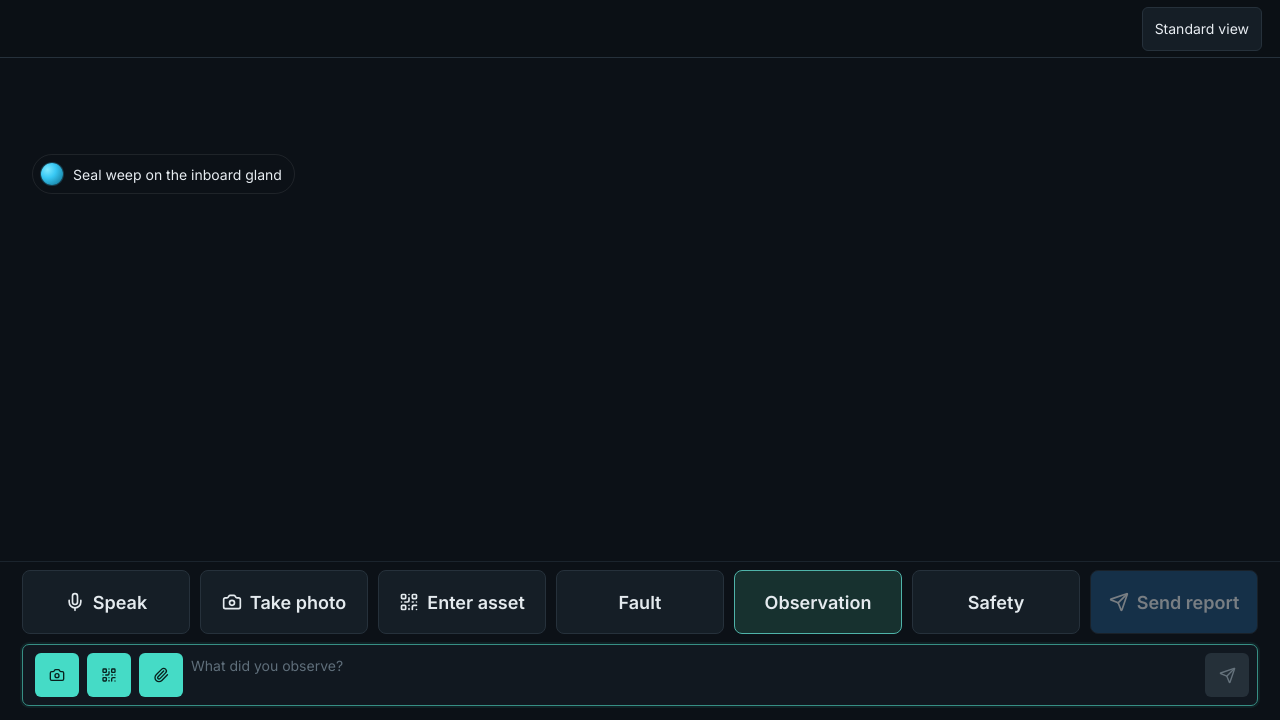
Scenario: FieldPage › refuses a tag that is not an asset id instead of silently dropping it
Expected: the text box with placeholder "What did you observe?" is shown, left=191, top=655, right=1197, bottom=697
Click the button "Enter asset": (462, 602) left=378, top=570, right=546, bottom=634
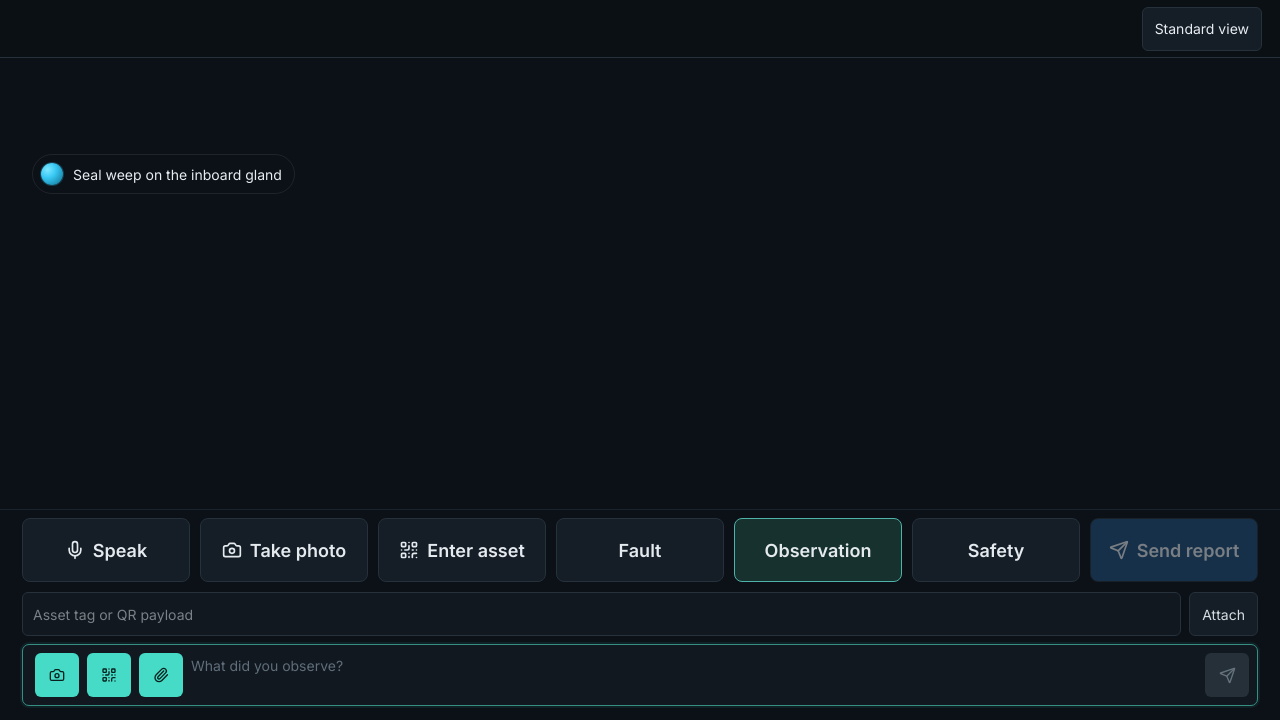
In the field labelled "Asset tag or QR payload": (602, 614) left=22, top=592, right=1181, bottom=636, type "T301"
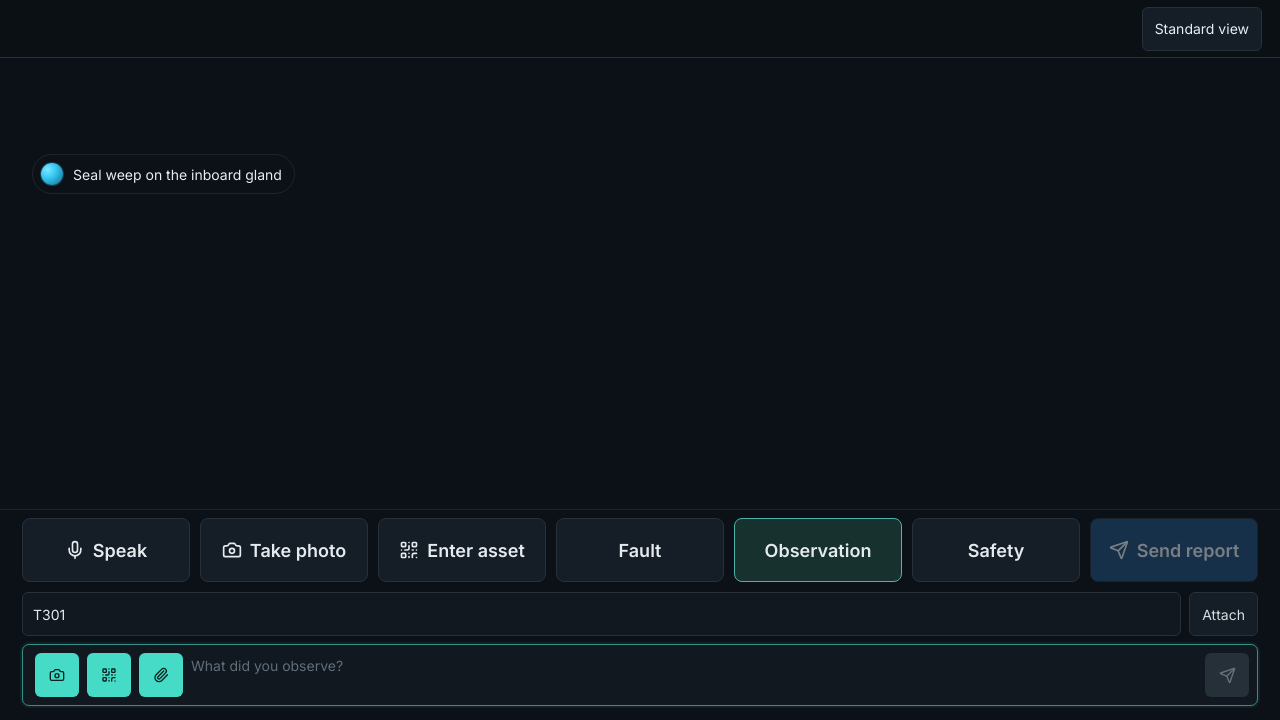
Click the button "Attach": (1224, 614) left=1189, top=592, right=1258, bottom=636
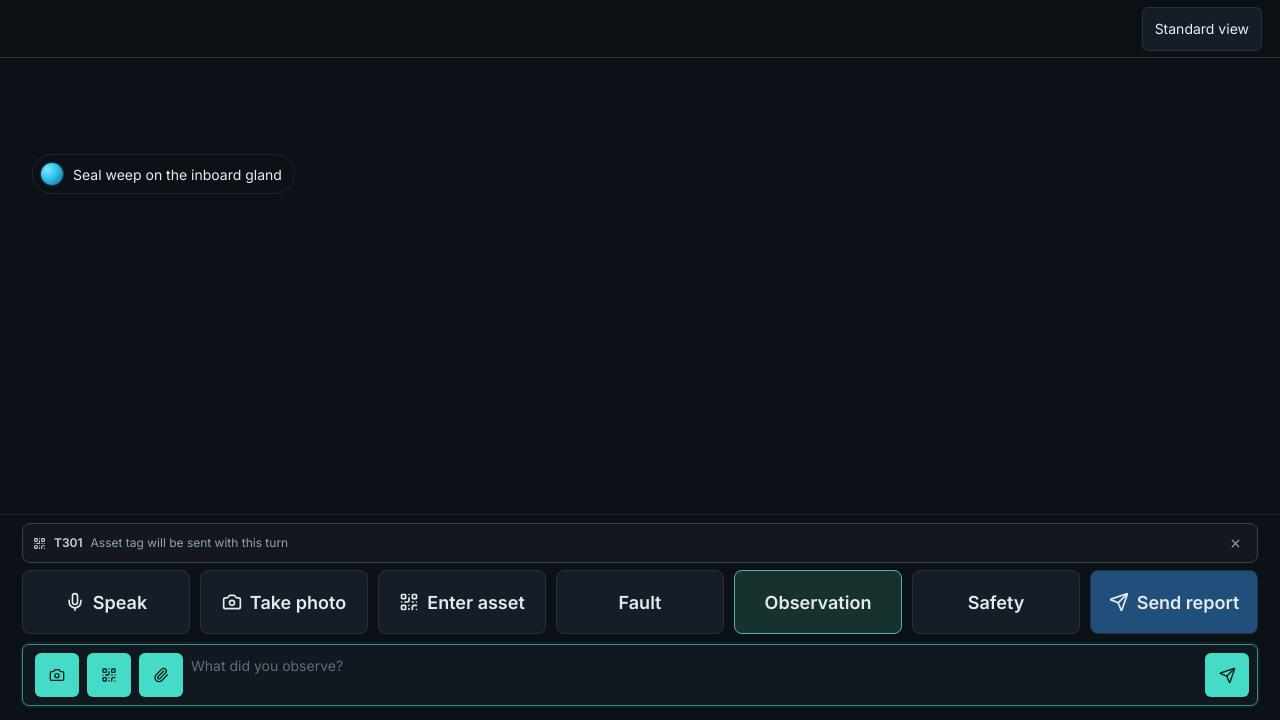
In the text box with placeholder "What did you observe?": (694, 676) left=191, top=655, right=1197, bottom=697, type "Hydraulic leak at the boom joint"
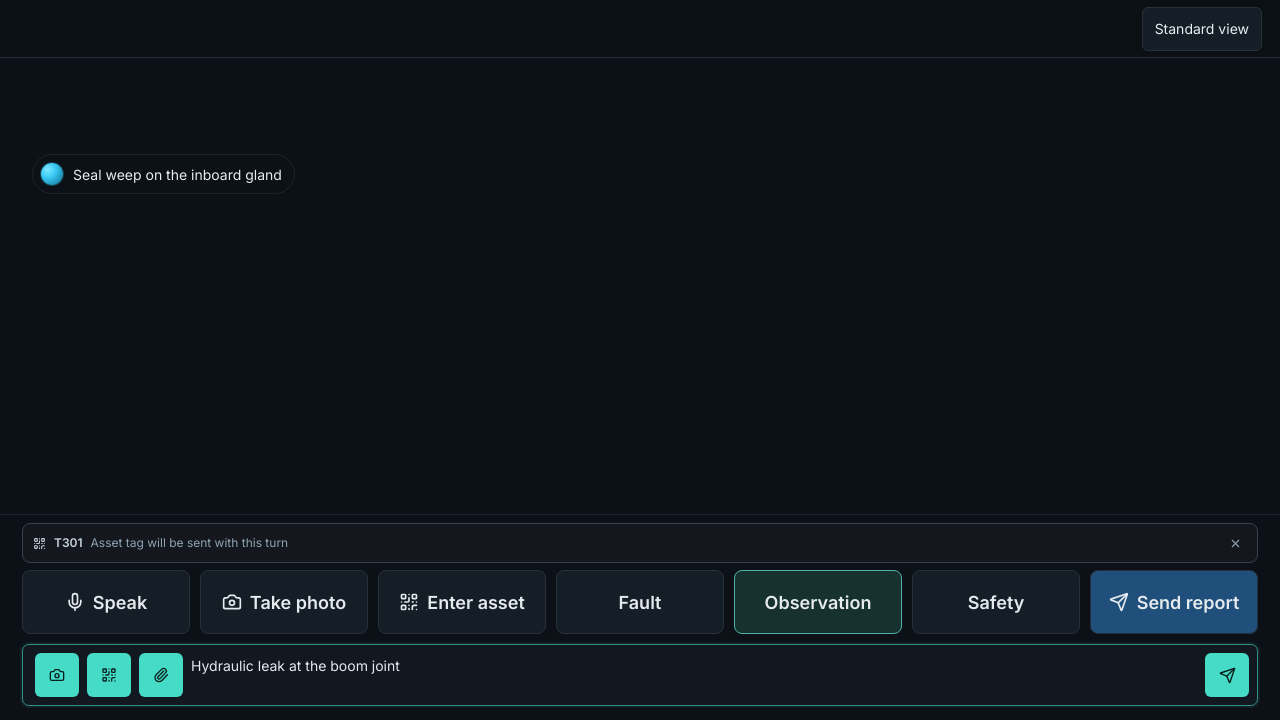
Click the button "Send report": (1174, 602) left=1090, top=570, right=1258, bottom=634
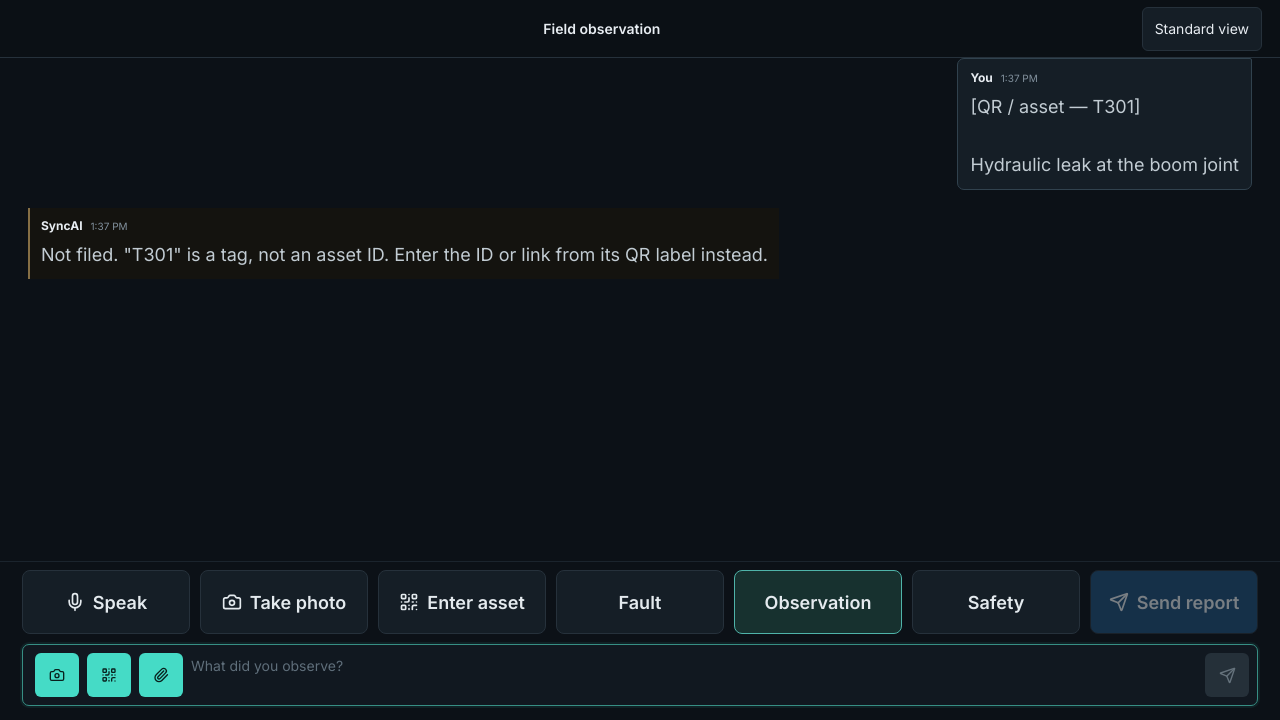
Expected: the text "\"T301\" is a tag, not an asset ID" is shown, left=41, top=244, right=768, bottom=265
